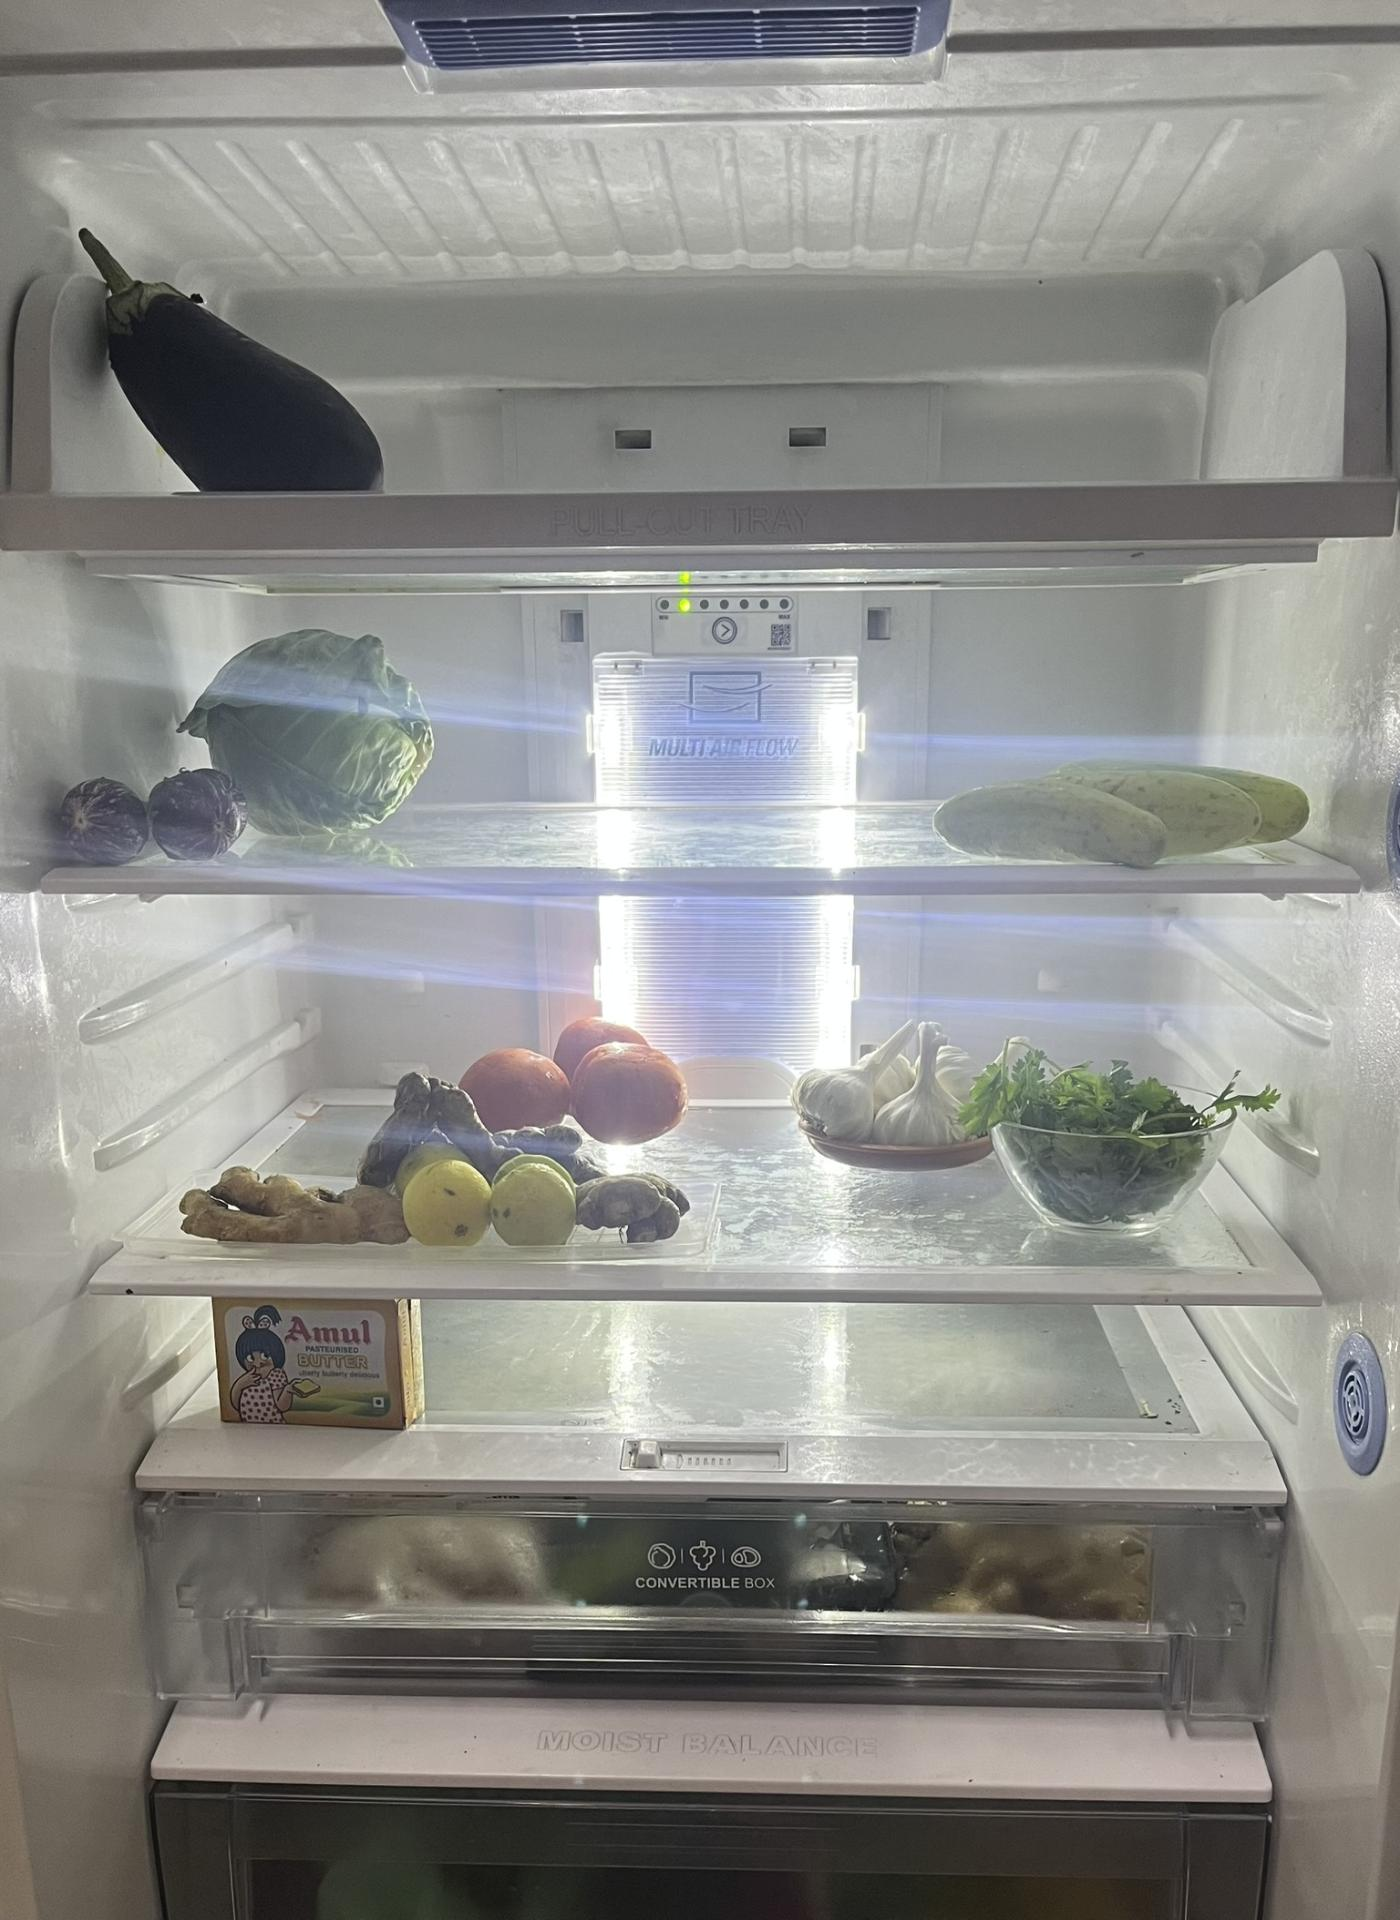brinjal: (88, 218, 391, 499), (61, 771, 236, 862)
butter: (209, 1292, 423, 1425)
cabbage: (192, 620, 428, 839)
coriander: (974, 1051, 1267, 1228)
cucumber: (933, 769, 1311, 865)
garlic: (796, 1011, 987, 1142)
ginger: (352, 1072, 689, 1236), (183, 1167, 409, 1240)
lemon: (409, 1154, 578, 1242)
tomato: (465, 1018, 687, 1140)
